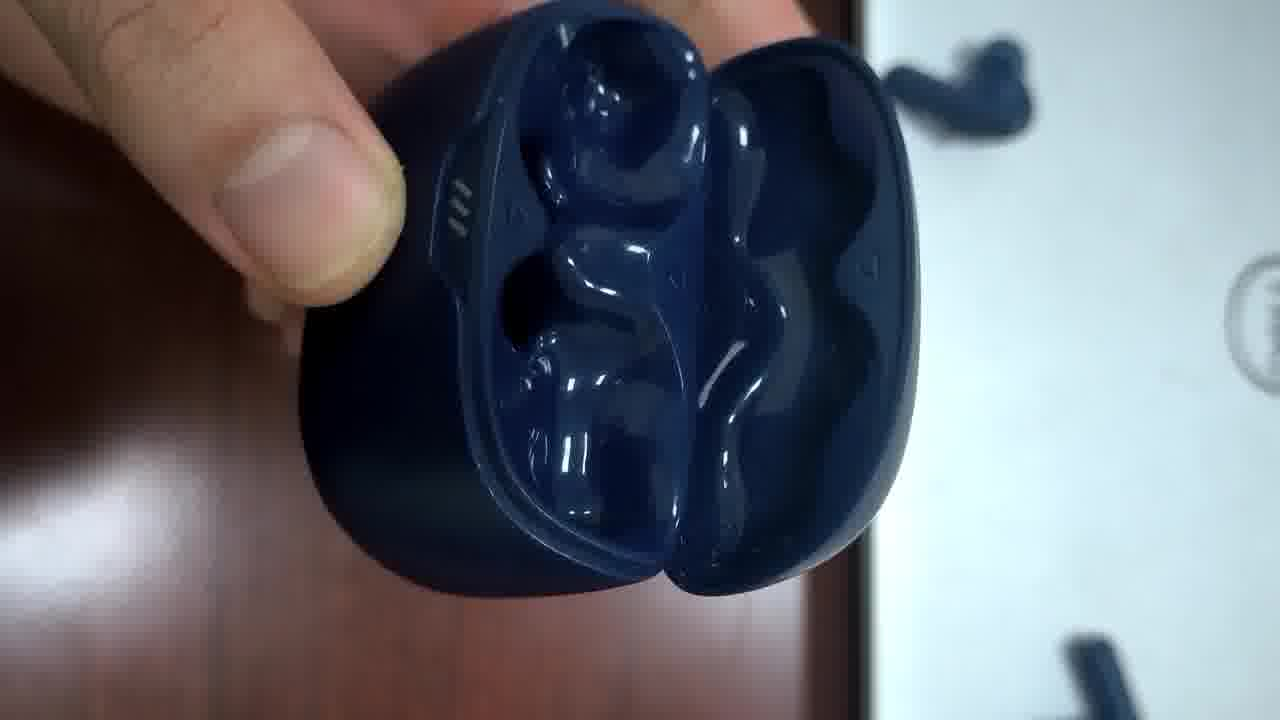Case: (298, 33, 916, 608)
Earbud: (884, 38, 1032, 137)
Empty_Slot: (520, 21, 705, 226), (499, 280, 684, 485)
